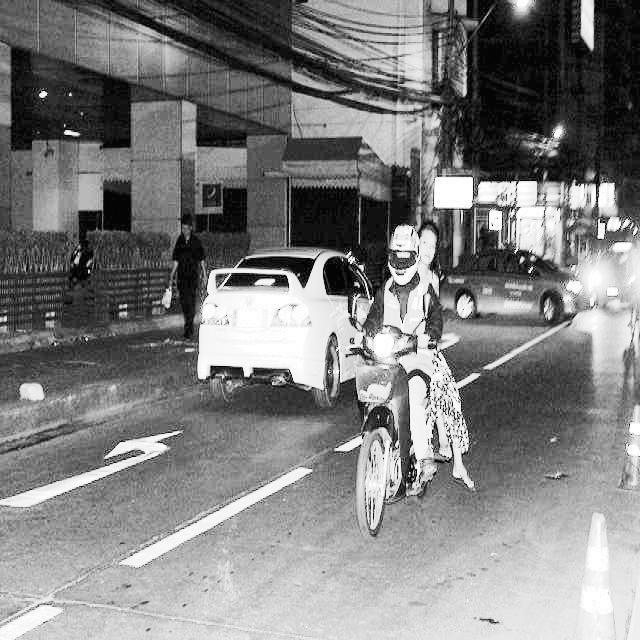Car: (195, 244, 378, 415), (444, 240, 580, 327), (584, 227, 639, 324)
Motorcycle: (340, 321, 481, 537)
Person: (376, 219, 441, 400)
